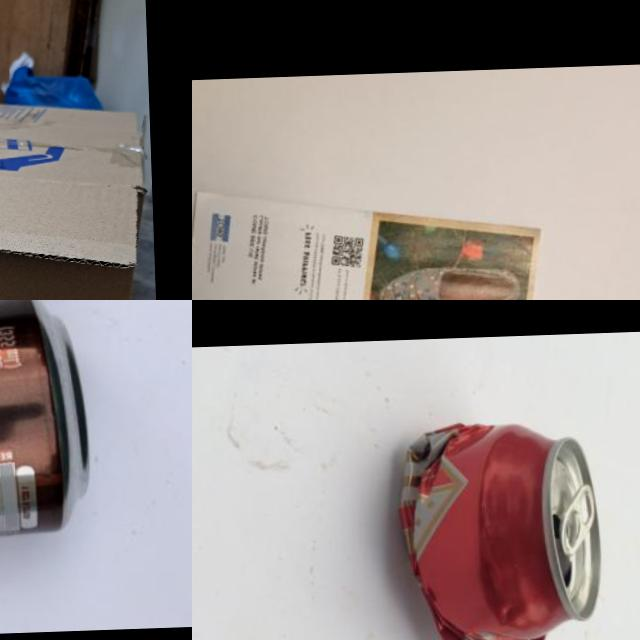aba de lata: (554, 482, 600, 559)
lata: (393, 415, 607, 640), (0, 300, 95, 569)
papel: (192, 178, 549, 300)
papelão: (0, 92, 154, 300)
sacola plástica: (0, 63, 108, 112)
